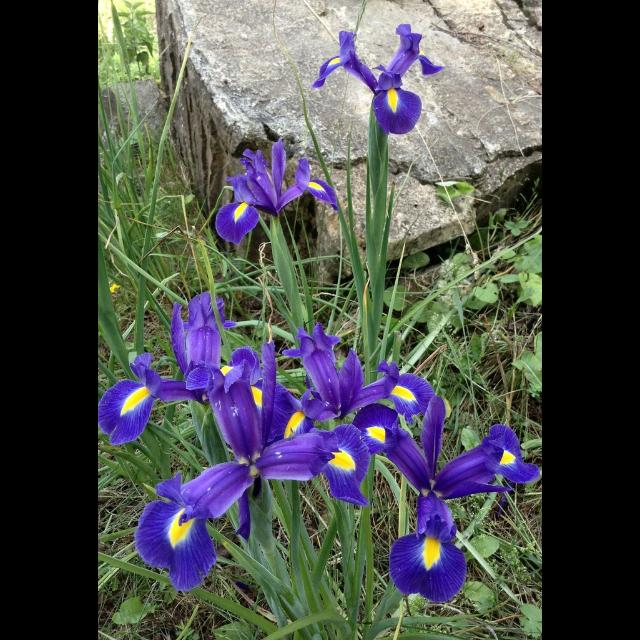Flower: (367, 66, 428, 124)
